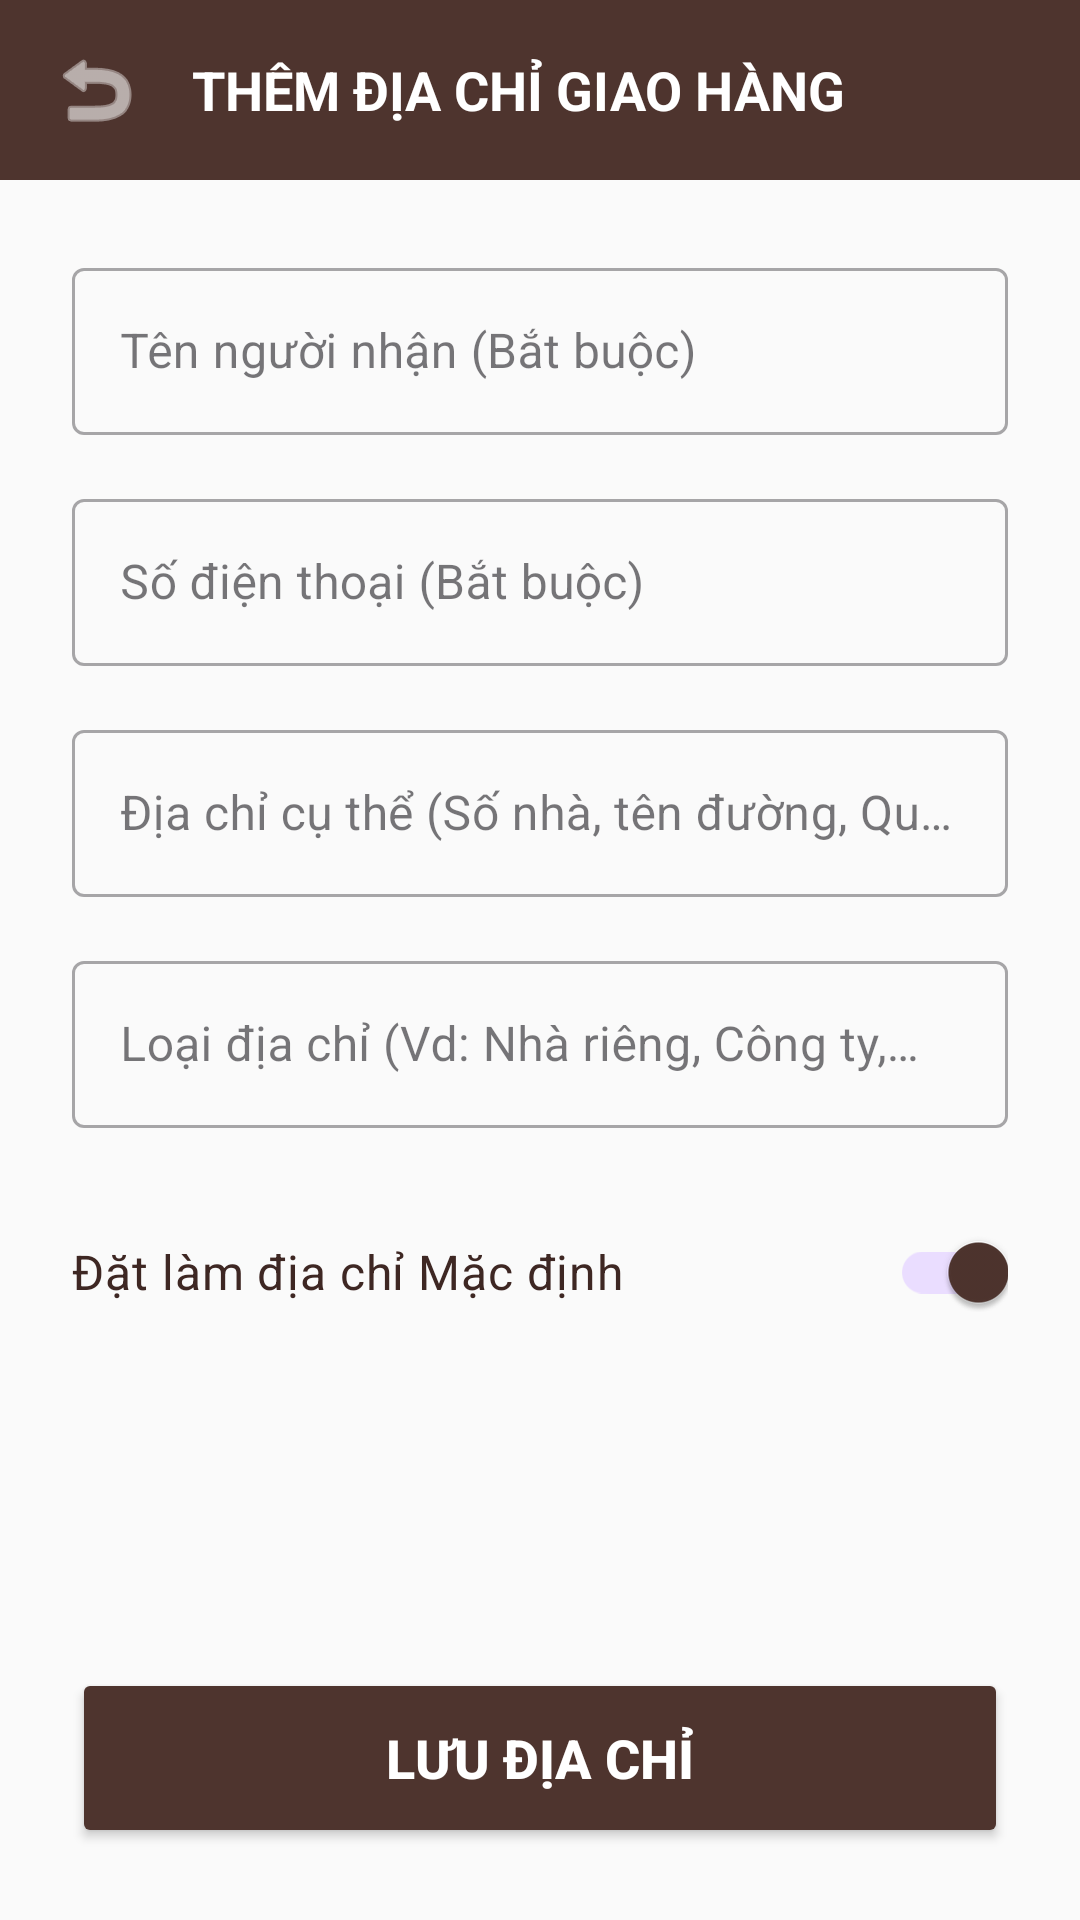

Screen size 1080×1920. Icon name, then its box in pixels as region(x1, y1, x2, y2):
revert: region(63, 59, 132, 122)
